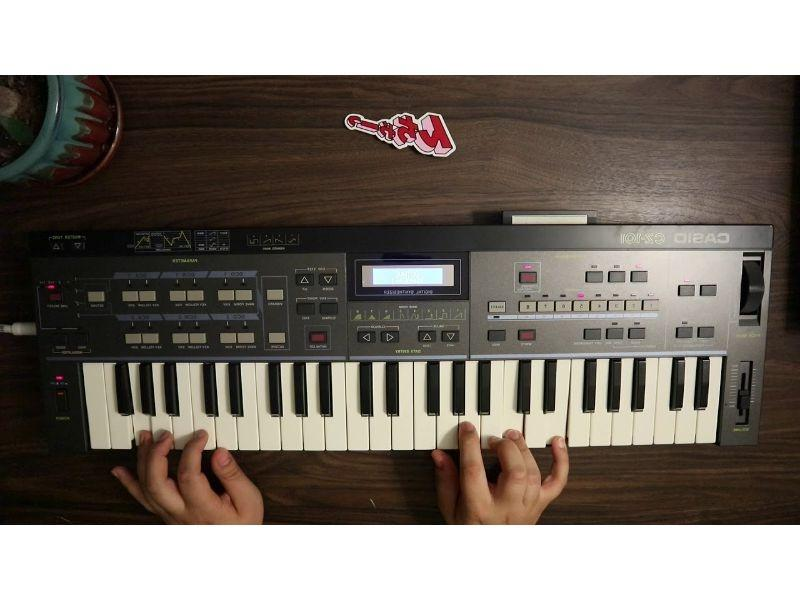synthesizer: (28, 212, 773, 447)
